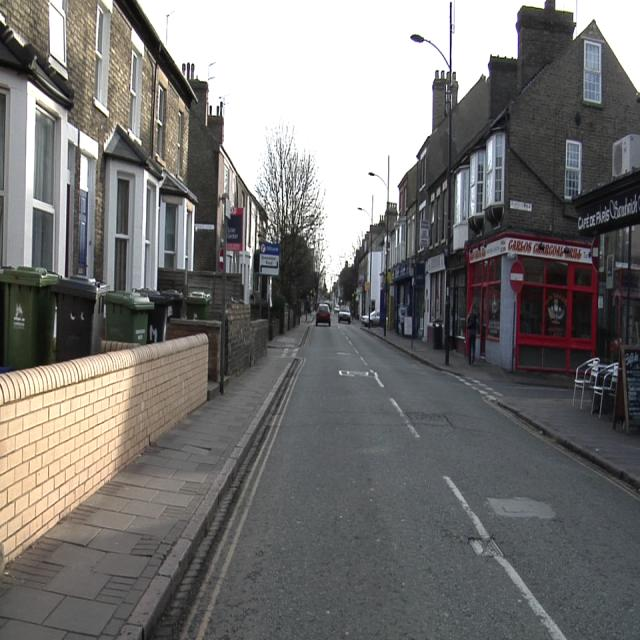Building: (341, 3, 638, 372), (3, 0, 271, 369)
Car: (316, 303, 331, 324), (339, 307, 351, 323)
Road: (167, 324, 638, 639)
Tree: (256, 119, 326, 300)
